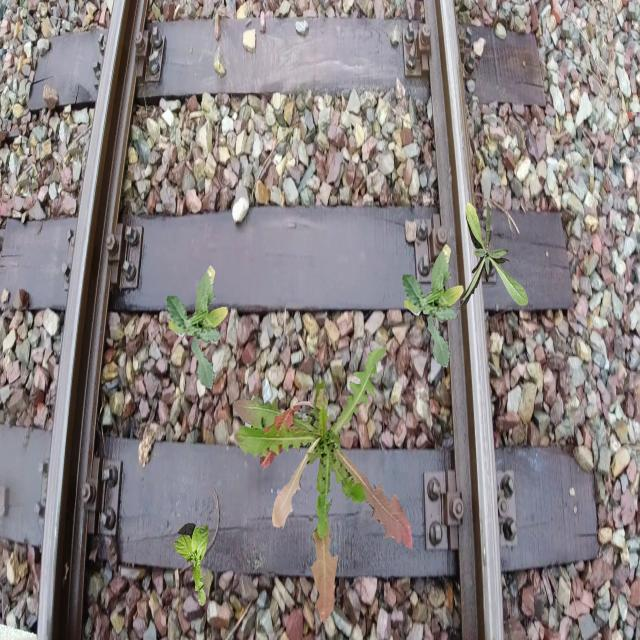Plant: (233, 346, 413, 624), (166, 265, 228, 390), (402, 244, 464, 368), (457, 200, 528, 308), (173, 523, 208, 606)
